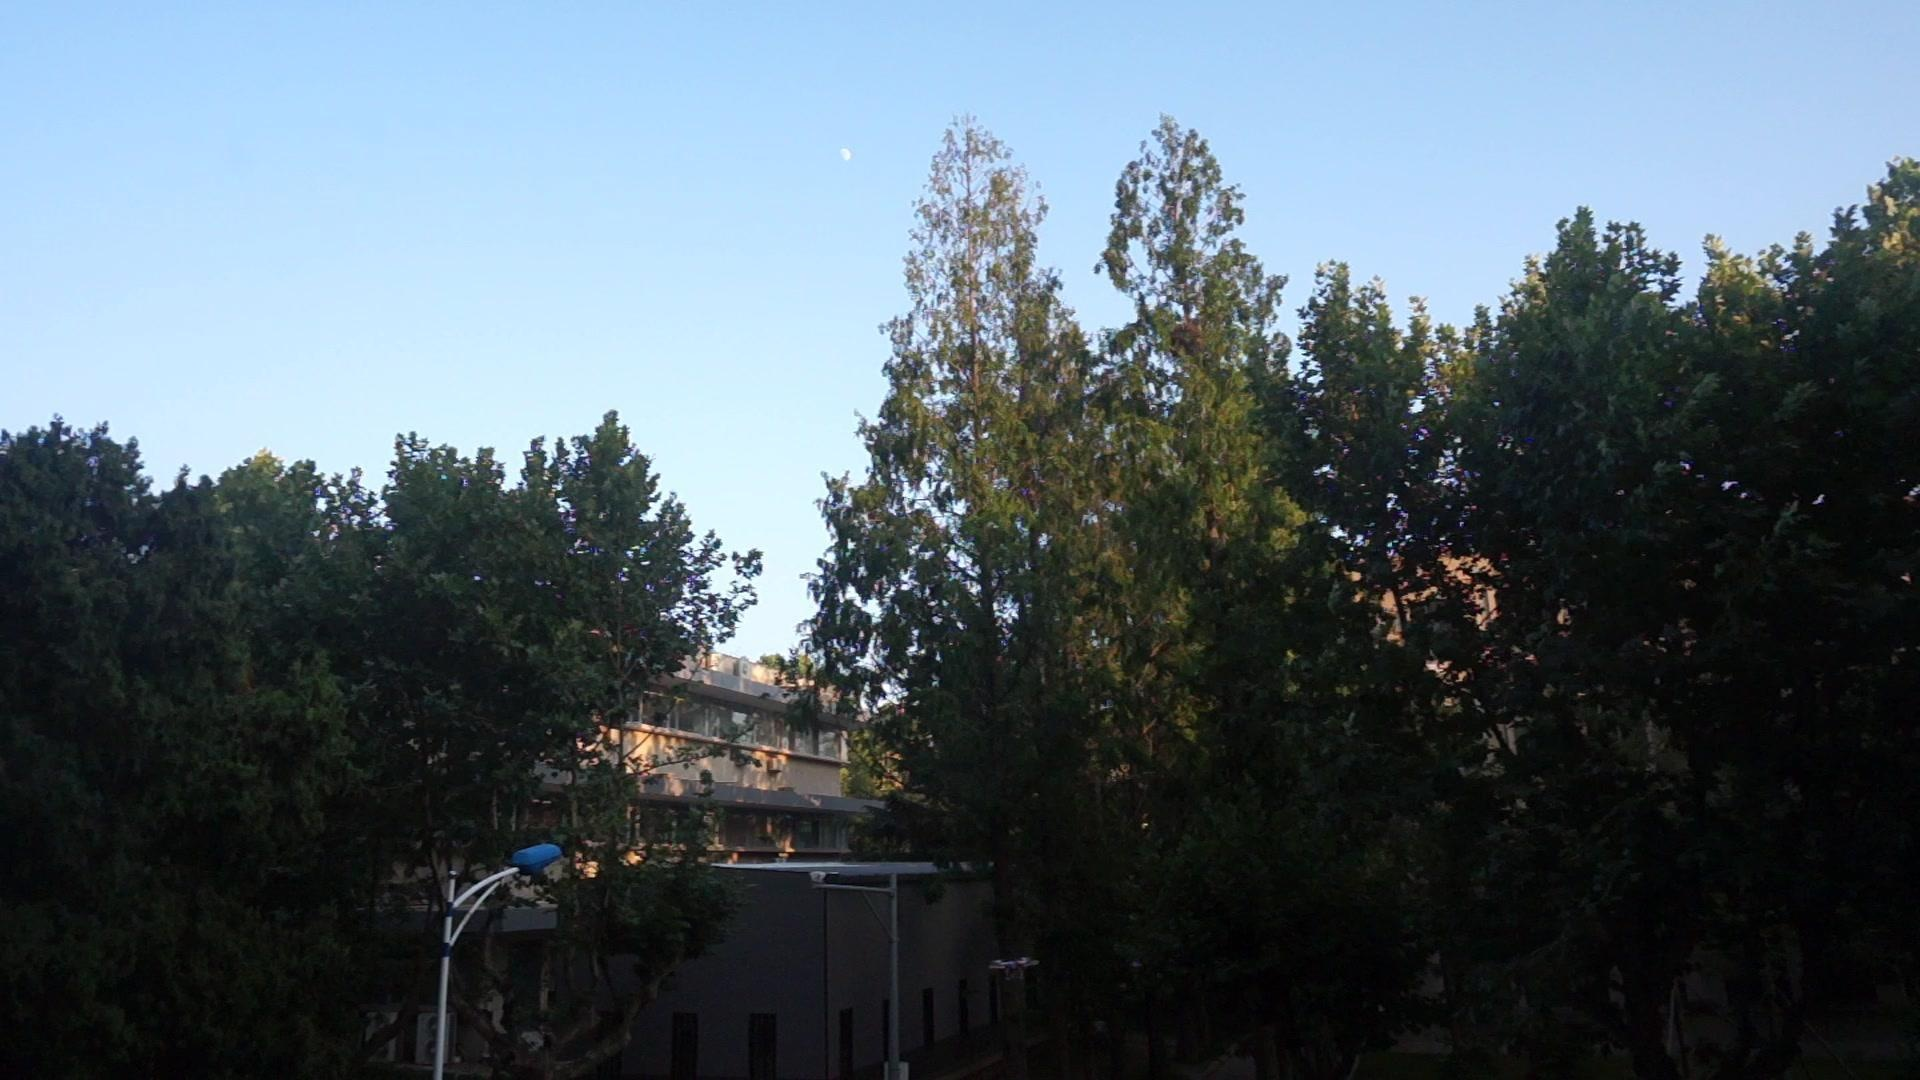UAV: (989, 957, 1040, 981)
